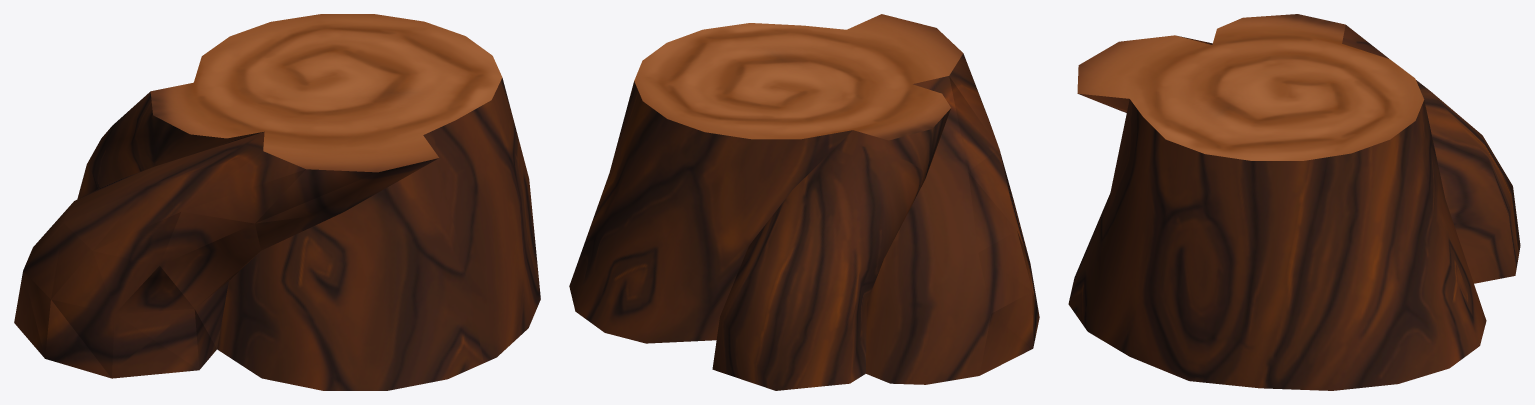
File: Stomp.FBX
3 views of the same model, side by side, from view 1: azimuth 30°, elevation 25°; view 2: azimuth 150°, elevation 25°; view 3: azimuth 270°, elevation 25° (orthographic). The views are drawn at different scales.
Parts seen in each view (by area): view 1: Cylinder002; view 2: Cylinder002; view 3: Cylinder002.
Boxes of the visible parts, <box> form: Cylinder002: <box>14,14,540,390</box>; Cylinder002: <box>569,14,1039,390</box>; Cylinder002: <box>1068,14,1520,390</box>.
Bounding box in the file's own units: 129 × 58.54 × 113.
Materials: 1 (1 with a texture image).
